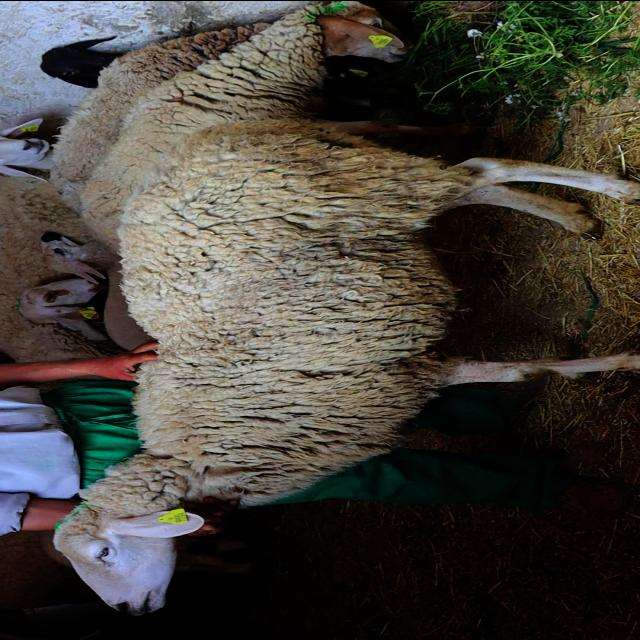Score_5: (54, 119, 639, 614)
